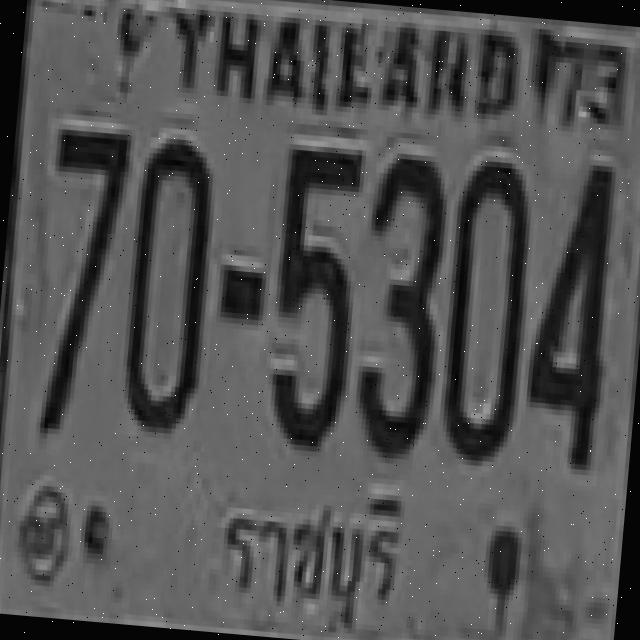0: (434, 153, 534, 463), (117, 134, 216, 432)
3: (348, 151, 450, 456)
4: (518, 155, 618, 465)
5: (259, 143, 362, 448)
7: (32, 123, 130, 412), (39, 123, 130, 323), (40, 123, 130, 307)
Ratchaburi: (200, 476, 416, 634)
